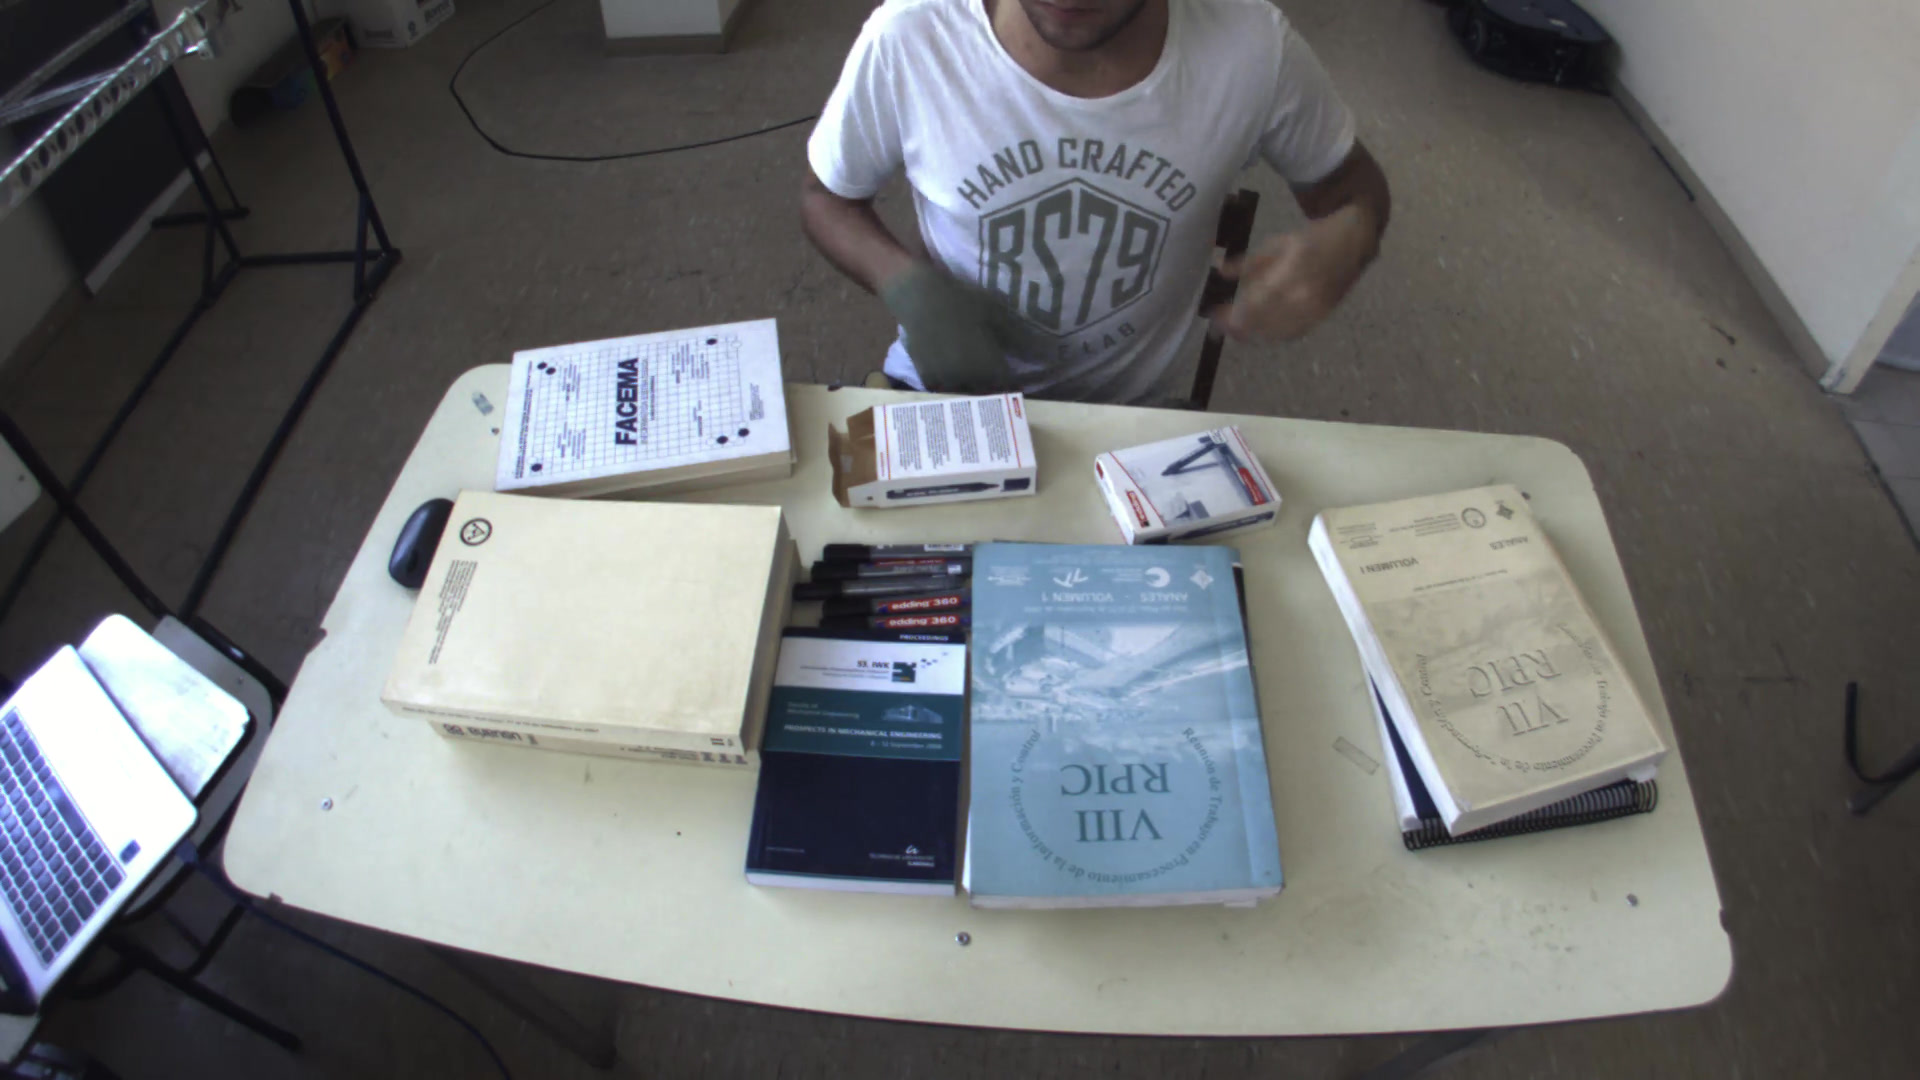hand: (1189, 207, 1390, 348), (876, 255, 1033, 381)
